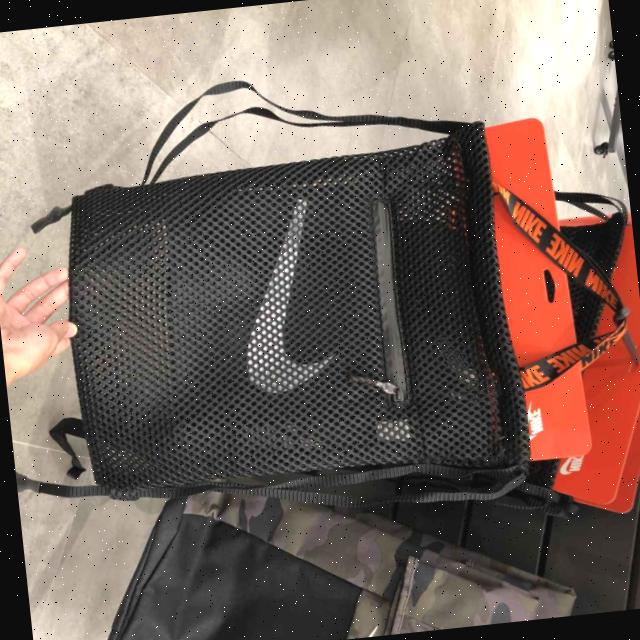Handbag: (43, 117, 566, 550)
